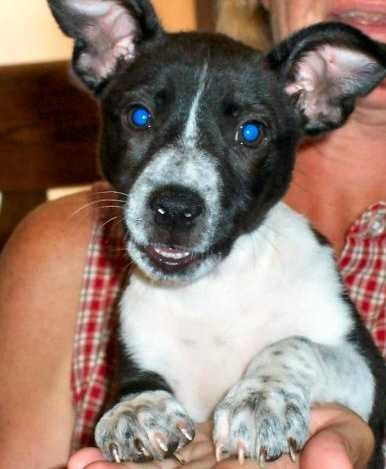dog: (49, 0, 386, 412)
